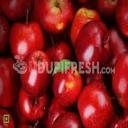apple: (0, 56, 20, 108)
